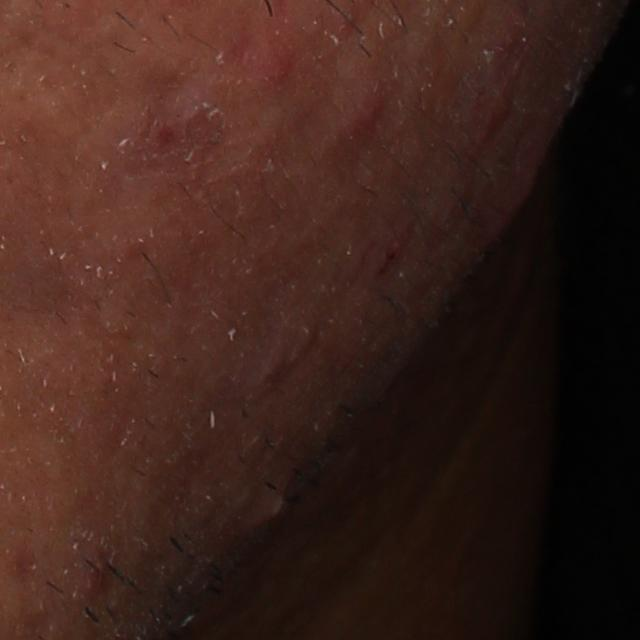papule: (465, 64, 525, 156), (476, 160, 534, 252), (245, 27, 303, 97), (352, 62, 391, 138), (86, 545, 122, 595)
